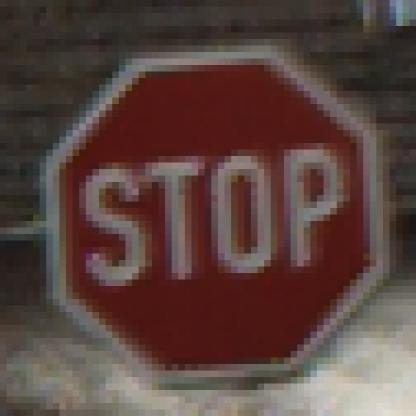stop: (22, 41, 394, 380)
